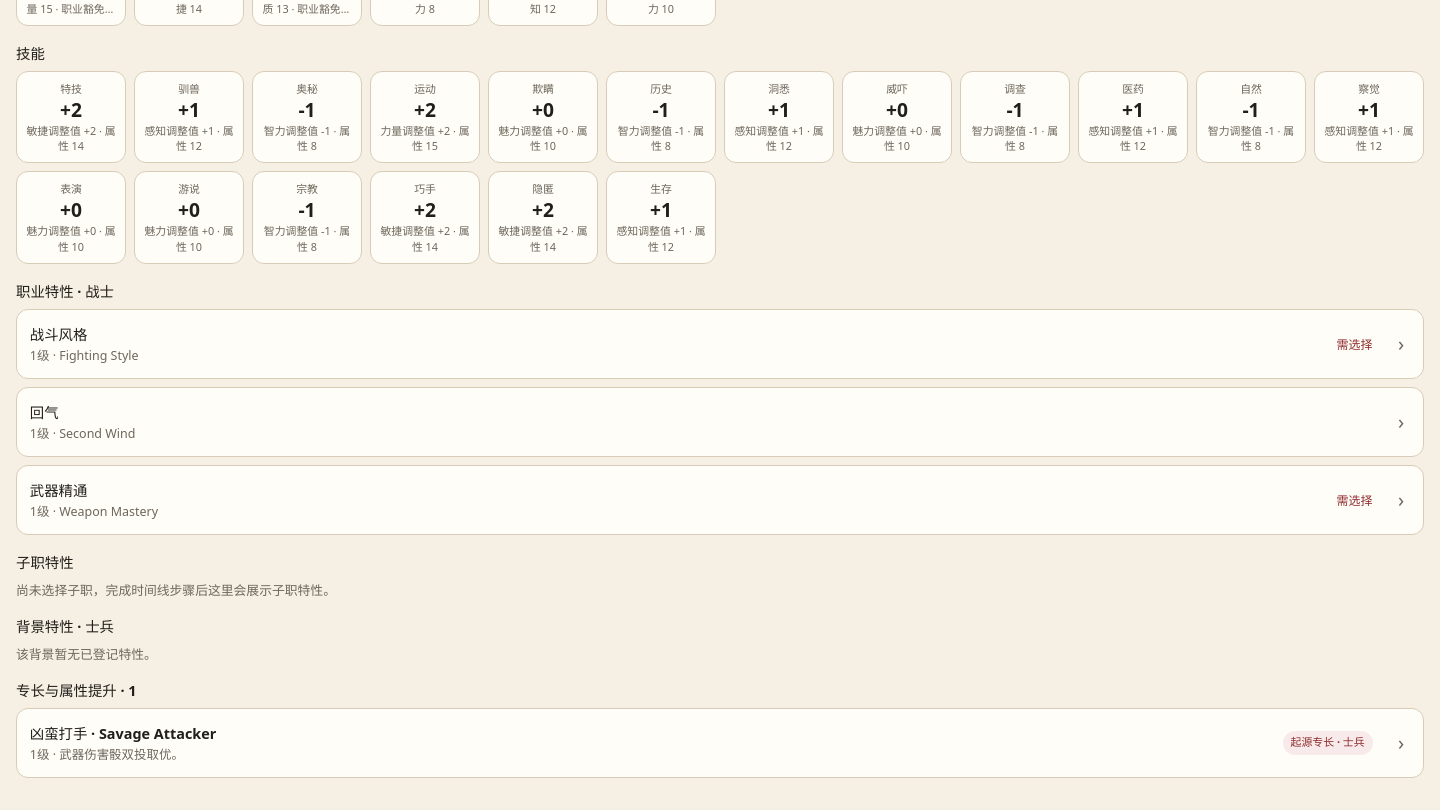
Test case: SessionPanel 按草稿版本解析显示数据 › 2024 背景固定授予的起源专长显示名称、来源与完整效果
(page scrolled)
Click the button with class "expandable-option-card__arrow" next to "起源专长 · 士兵". click: (1401, 743)
box: [1379, 709, 1423, 777]
(page scrolled)
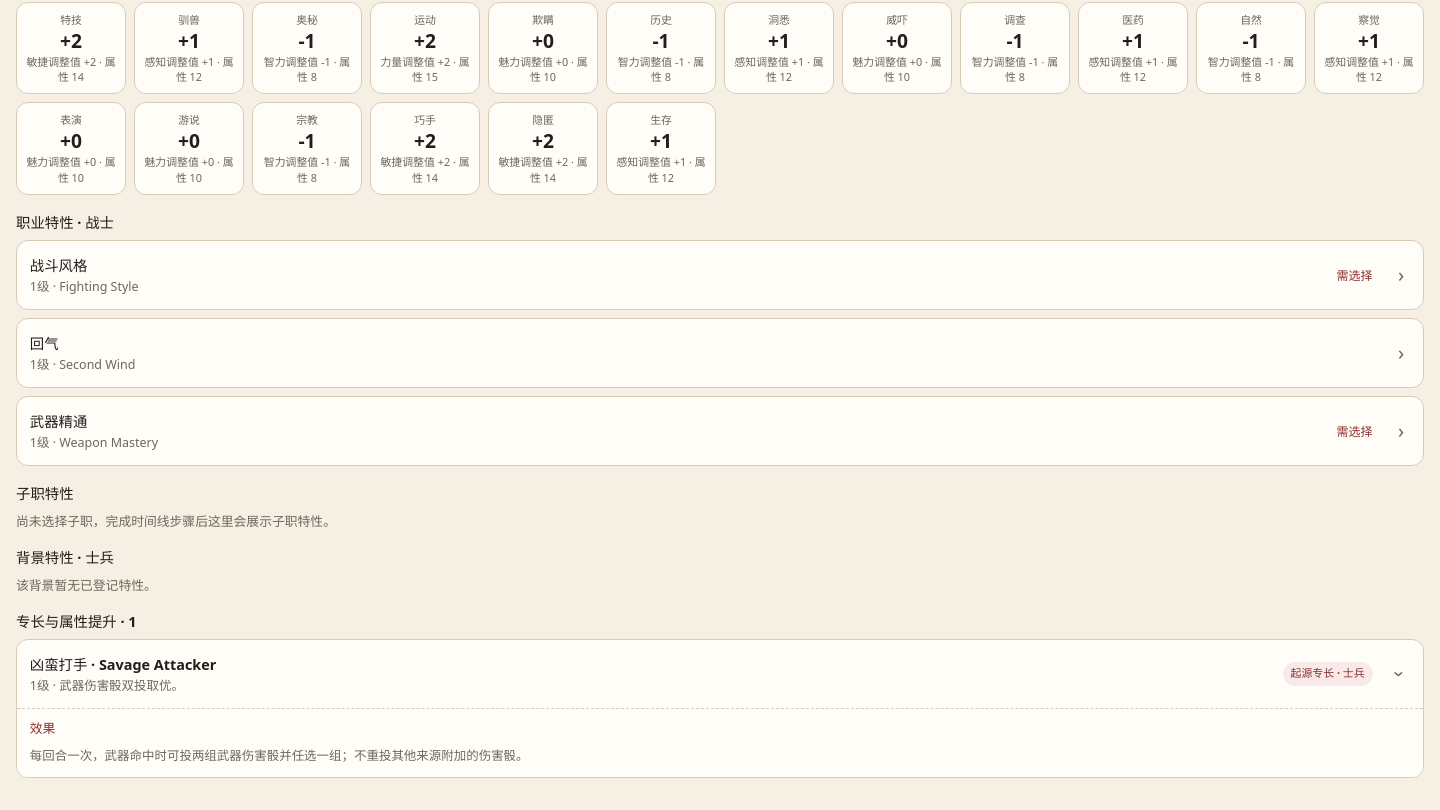
Expected: the element with class "expandable-option-card" shows "每回合一次", [30, 747, 529, 764]
